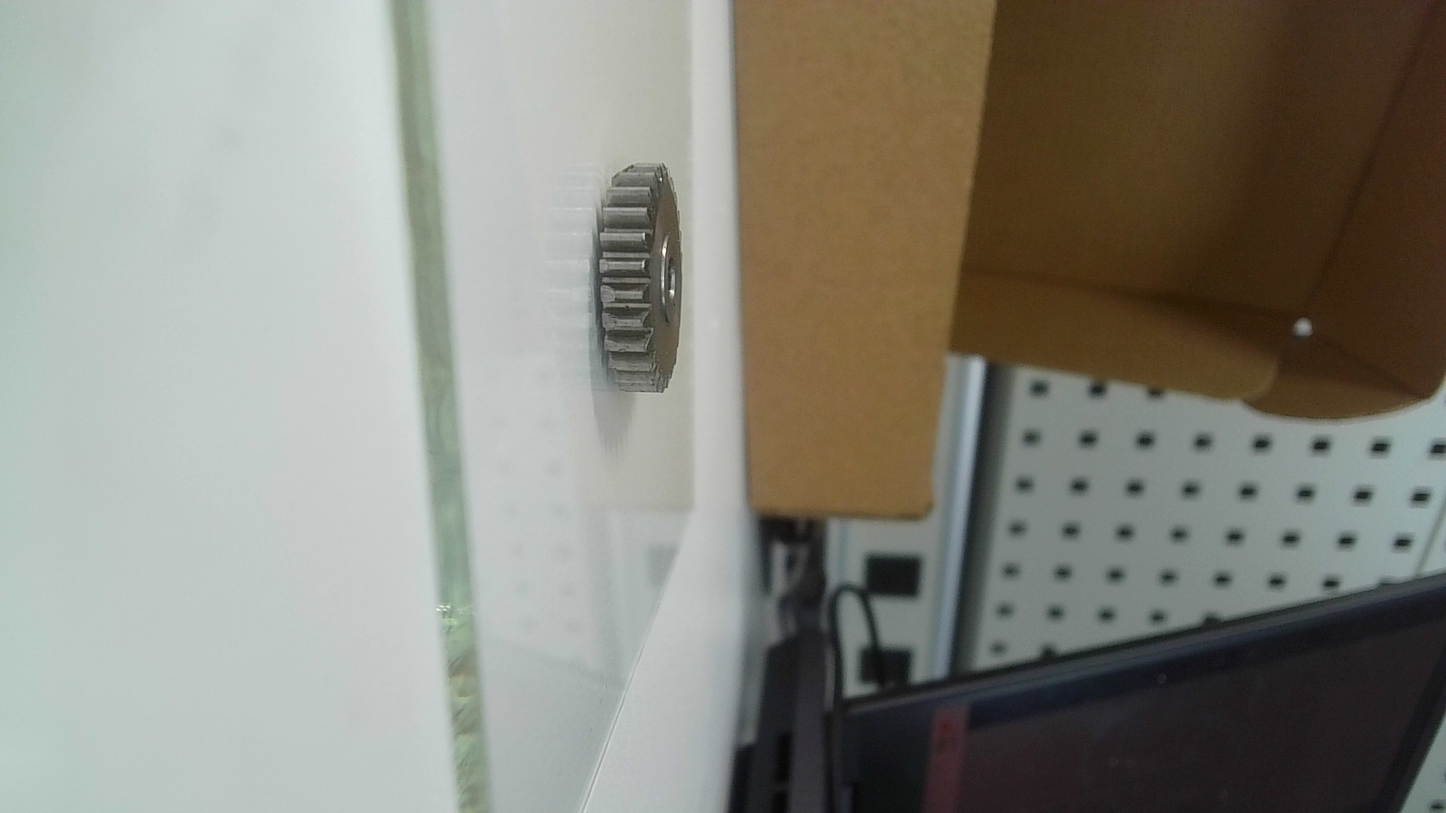gear: (594, 160, 692, 396)
